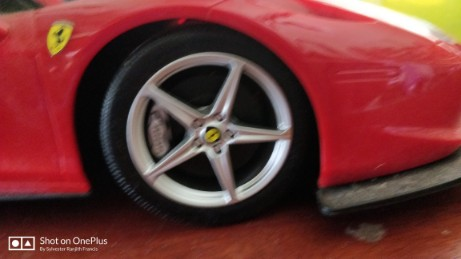unaligned_wheel: (105, 28, 307, 230)
